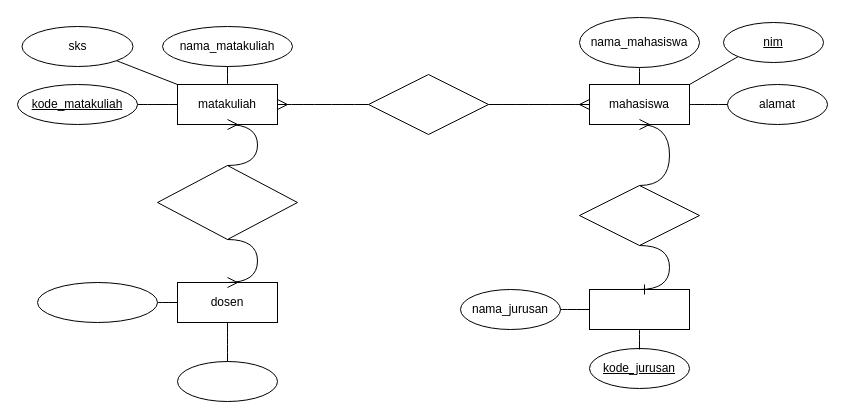
Some shapes in this 845 by 419 pixel diagram are drawn without their labels. The centre of each missing label's shape, as x and y in pixels:
daftar_pengampu: the point at 227,202
daftar_peserta: the point at 428,104
Jurusan: the point at 639,309
nama_dosen: the point at 227,381
no_Induk_dosen: the point at 97,302
